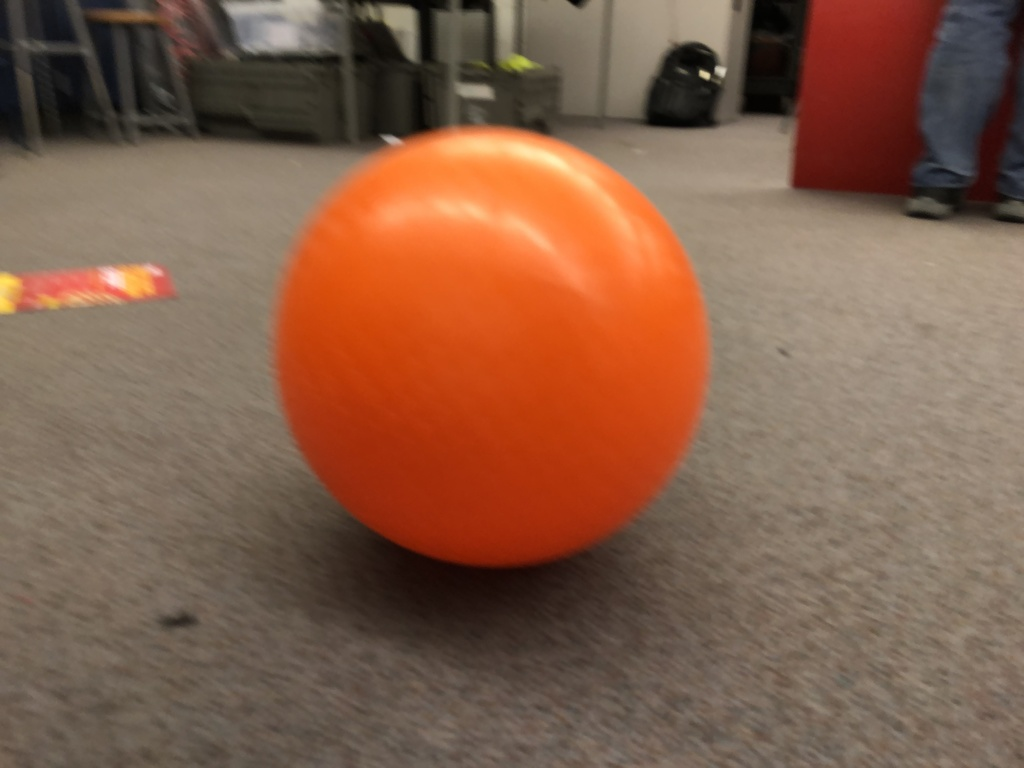cargo: (269, 124, 729, 577)
